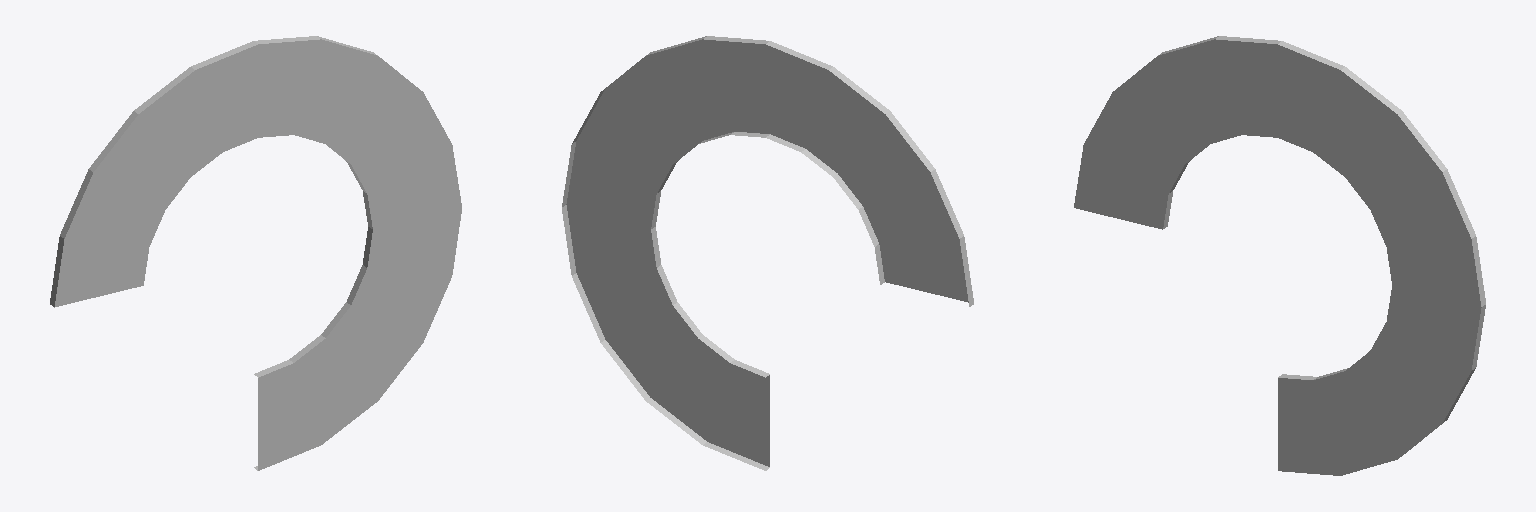
The model's file is roundaboutLeft.obj.
The picture shows the model from 3 angles: view 1: azimuth 30°, elevation 25°; view 2: azimuth 150°, elevation 25°; view 3: azimuth 330°, elevation 25°; orthographic projection.
Visible parts, largest first — view 1: ring_interaction_geo_Untitled.004; view 2: ring_interaction_geo_Untitled.004; view 3: ring_interaction_geo_Untitled.004.
Boxes of the visible parts, box(x1,y1,x2,y2) form: ring_interaction_geo_Untitled.004: box(50, 36, 461, 470); ring_interaction_geo_Untitled.004: box(562, 36, 973, 470); ring_interaction_geo_Untitled.004: box(1074, 36, 1485, 475).
Bounding box in the file's own units: 0.214 × 0.214 × 0.0044.